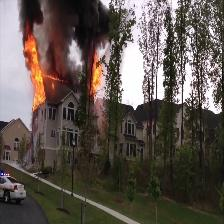fire: (20, 32, 57, 110), (89, 49, 107, 100)
